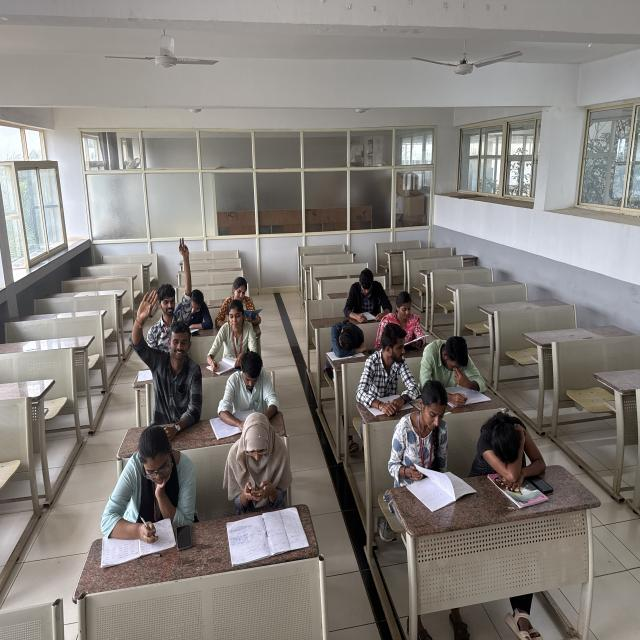Hand Rising: (127, 286, 200, 412), (157, 230, 198, 333)
Reading: (386, 377, 458, 482), (214, 351, 283, 426), (417, 331, 486, 399), (342, 267, 392, 322), (382, 290, 430, 347), (213, 274, 265, 324)
Sleeping: (474, 406, 548, 481), (324, 316, 370, 356)
Using Phone: (217, 404, 291, 512)
Writing: (96, 422, 208, 548), (204, 299, 263, 370)
